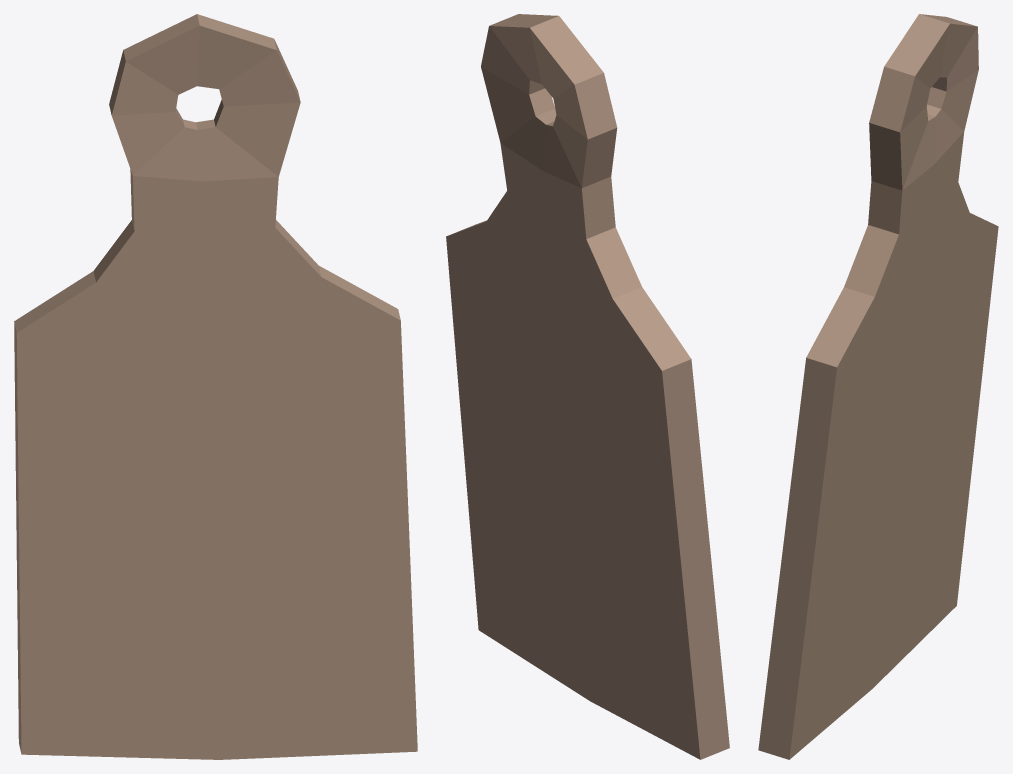
The model's file is Board_1.fbx.
The picture shows the model from 3 angles, left to right: view 1: azimuth 30°, elevation 25°; view 2: azimuth 150°, elevation 25°; view 3: azimuth 270°, elevation 25°; orthographic projection. The views are drawn at different scales.
Visible parts, largest first — view 1: Board_1; view 2: Board_1; view 3: Board_1.
Part boxes in pixels (box(x1,y1,x2,y2)): Board_1: box(14, 14, 417, 759); Board_1: box(446, 14, 729, 759); Board_1: box(758, 14, 998, 759).
Bounding box in the file's own units: 26.71 × 17.43 × 54.29.
